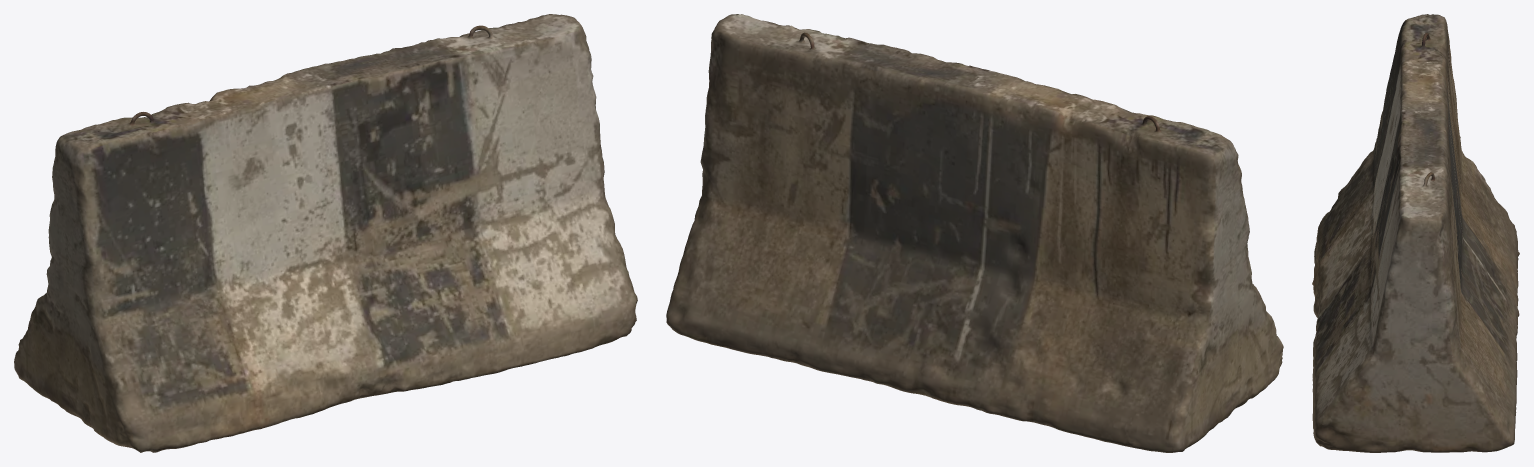
The model's file is concrete_road_barrier.glb.
3 renders of one model, left to right at view 1: azimuth 30°, elevation 25°; view 2: azimuth 150°, elevation 25°; view 3: azimuth 270°, elevation 25°, orthographic. The views are drawn at different scales.
Parts seen in each view (by area): view 1: concrete_road_barrier; view 2: concrete_road_barrier; view 3: concrete_road_barrier.
Part boxes in pixels (box(x1,y1,x2,y2)): concrete_road_barrier: box(14, 14, 637, 452); concrete_road_barrier: box(666, 14, 1283, 452); concrete_road_barrier: box(1312, 14, 1519, 452).
Bounding box in the file's own units: 1.55 × 0.8311 × 0.6388.
Materials: 1 (1 with a texture image).
